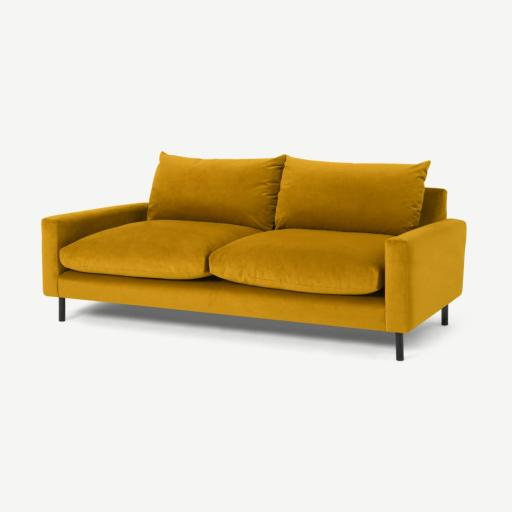back_cushion: (147, 152, 429, 234)
base: (57, 270, 387, 330)
left_arm: (385, 219, 466, 333)
legs: (396, 333, 404, 361), (441, 305, 448, 325), (59, 298, 65, 321)
right_arm: (42, 203, 146, 296)
seat_cushion: (60, 220, 390, 298)
two-seater: (0, 0, 511, 512)
